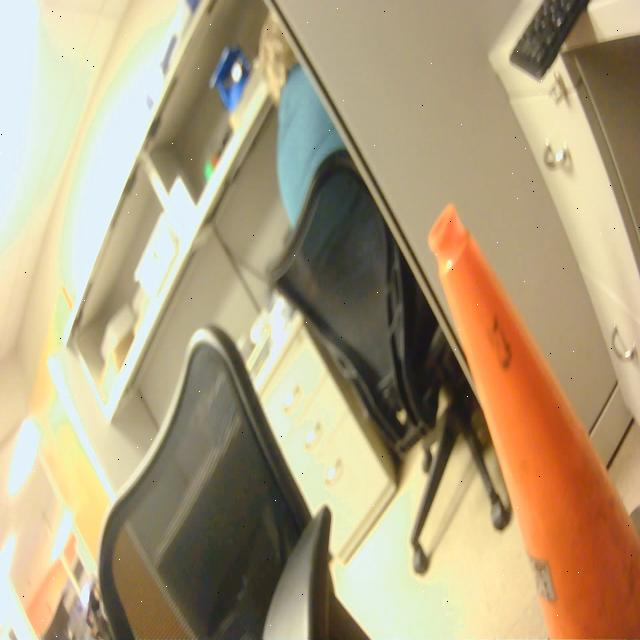traffic cone: (423, 195, 640, 640)
